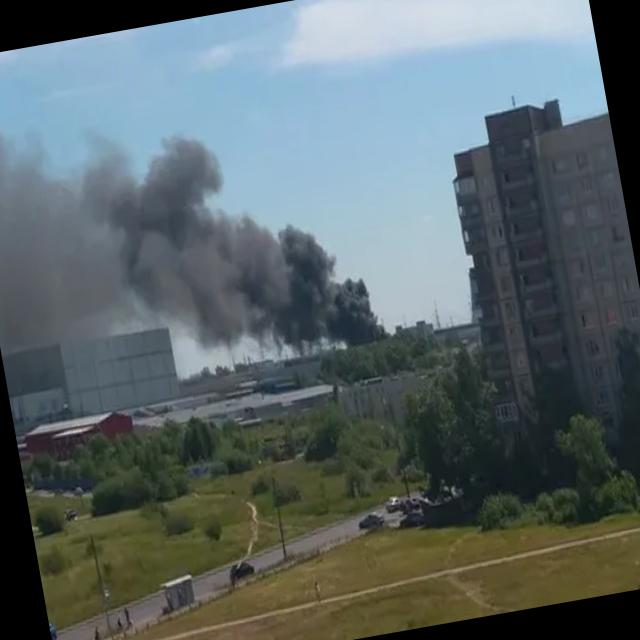Smoke: (0, 49, 399, 406)
